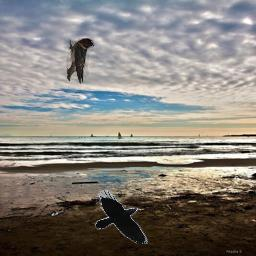Crow: (95, 189, 148, 244)
Swallow: (66, 38, 94, 84)
